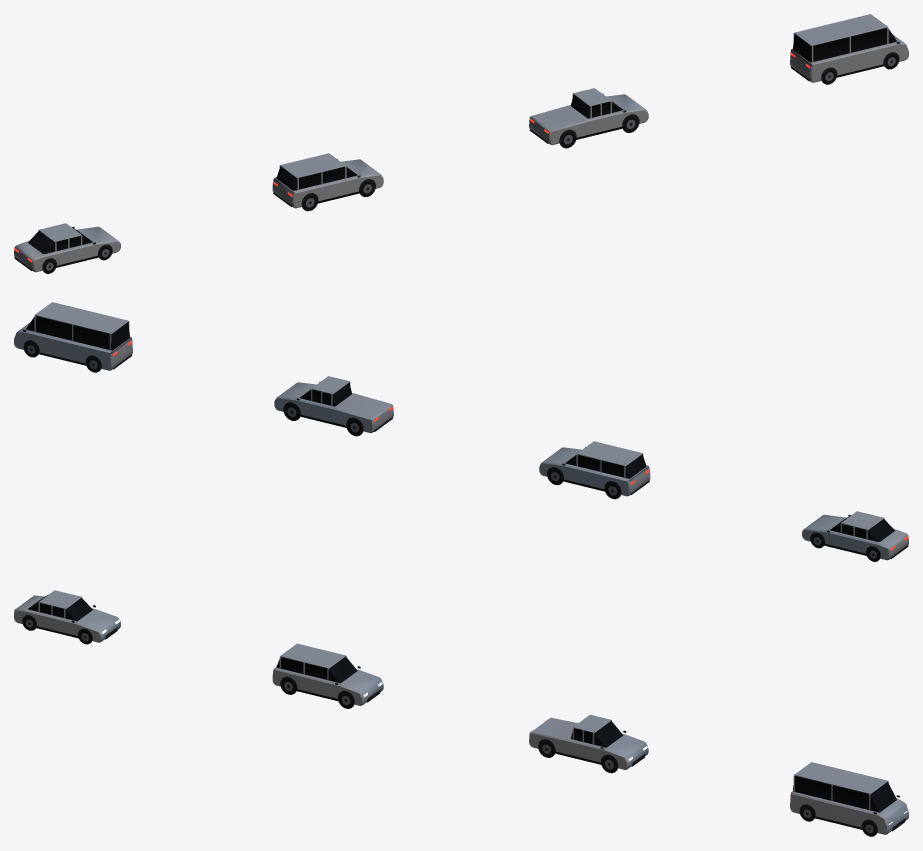
Rendered from cars.glb.
3 renders of one model, top to bottom at view 1: azimuth 30°, elevation 25°; view 2: azimuth 150°, elevation 25°; view 3: azimuth 330°, elevation 25°, orthographic.
Parts seen in each view (by area): view 1: car_van.carpaint, car_pickup.carpaint, car_suv.carpaint, car_sedan.carpaint, car_van.glass_dark, car_suv.glass_dark, car_sedan.glass_dark, car_pickup.glass_dark; view 2: car_van.carpaint, car_pickup.carpaint, car_suv.carpaint, car_sedan.carpaint, car_van.glass_dark, car_suv.glass_dark, car_sedan.glass_dark, car_pickup.glass_dark; view 3: car_van.carpaint, car_pickup.carpaint, car_suv.carpaint, car_sedan.carpaint, car_van.glass_dark, car_suv.glass_dark, car_sedan.glass_dark, car_pickup.glass_dark.
Boxes of the visible parts, <box> form: car_van.carpaint: <box>790,14,908,82</box>; car_pickup.carpaint: <box>529,88,648,145</box>; car_suv.carpaint: <box>272,153,383,208</box>; car_sedan.carpaint: <box>14,223,120,272</box>; car_van.glass_dark: <box>793,28,896,62</box>; car_suv.glass_dark: <box>276,166,357,190</box>; car_sedan.glass_dark: <box>28,228,92,253</box>; car_pickup.glass_dark: <box>571,94,622,118</box>; car_van.carpaint: <box>14,302,132,370</box>; car_pickup.carpaint: <box>274,376,393,433</box>; car_suv.carpaint: <box>539,441,650,496</box>; car_sedan.carpaint: <box>802,511,908,560</box>; car_van.glass_dark: <box>26,316,129,350</box>; car_suv.glass_dark: <box>565,454,646,478</box>; car_sedan.glass_dark: <box>830,516,894,541</box>; car_pickup.glass_dark: <box>300,382,351,406</box>; car_van.carpaint: <box>790,762,908,834</box>; car_pickup.carpaint: <box>529,714,648,769</box>; car_suv.carpaint: <box>272,643,383,705</box>; car_sedan.carpaint: <box>14,590,120,642</box>; car_van.glass_dark: <box>793,776,896,812</box>; car_suv.glass_dark: <box>276,656,357,683</box>; car_sedan.glass_dark: <box>28,594,92,621</box>; car_pickup.glass_dark: <box>571,721,623,747</box>.
Size of the model in its own units: 47.04 by 2.13 by 2.2.
